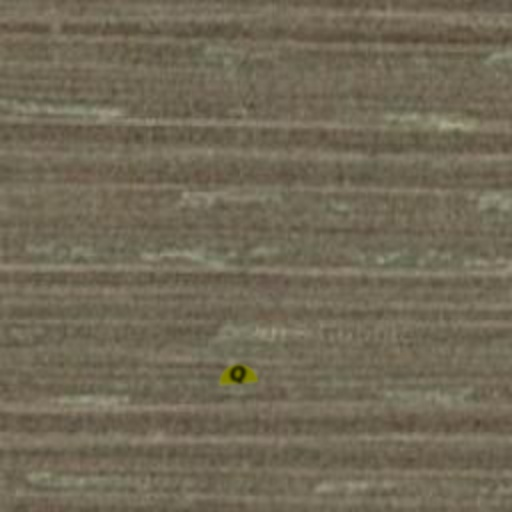semicircle: (216, 352, 260, 396)
